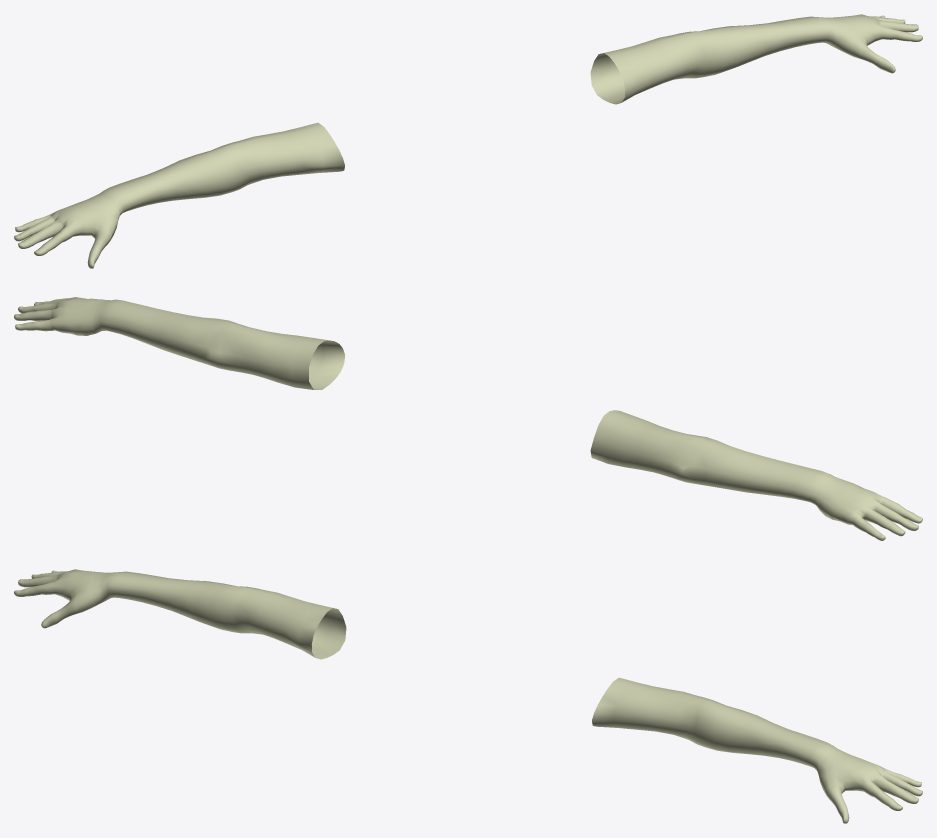
Rendered from Arms.fbx.
The picture shows the model from 3 angles, top to bottom: view 1: azimuth 30°, elevation 25°; view 2: azimuth 150°, elevation 25°; view 3: azimuth 330°, elevation 25°; orthographic projection.
Visible parts, largest first — view 1: Body.007; view 2: Body.007; view 3: Body.007.
Part boxes in pixels (left/top/right/bottom): Body.007: left=14, top=14, right=922, bottom=268; Body.007: left=14, top=297, right=922, bottom=540; Body.007: left=14, top=569, right=922, bottom=823.
Bounding box in the file's own units: 182 × 11.73 × 16.66.
